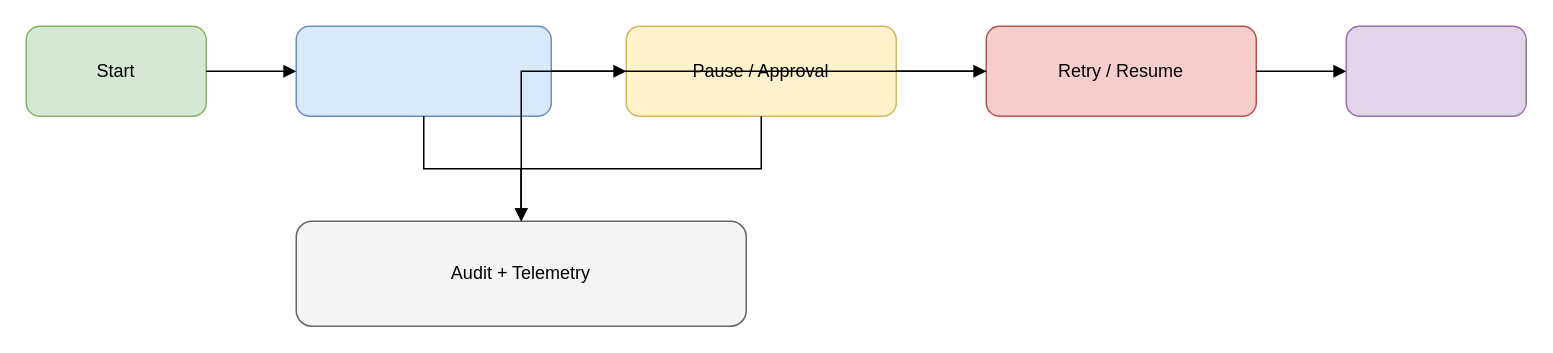
This 1553x353 diagram has some shape labels left out. Here are the shapes that lost their labels. From the top down, the centre of each, then its label:
At pixel 423 70: "Runtime State".
At pixel 1435 70: "Complete".
